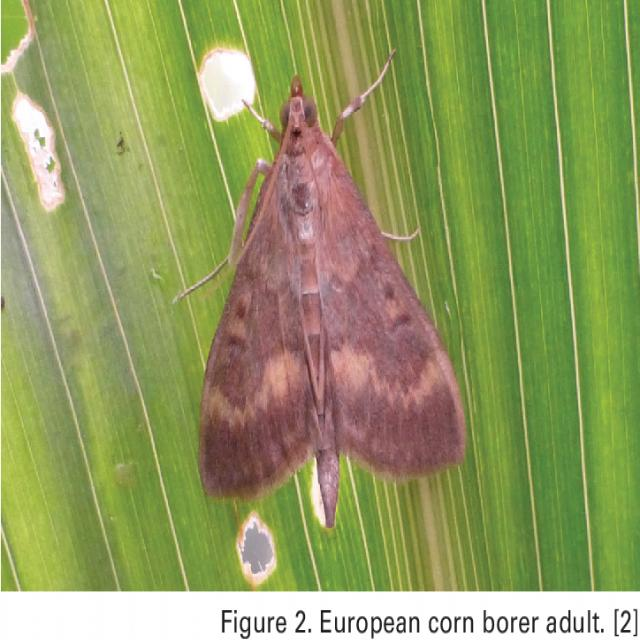cornborer-Adult-: (172, 34, 487, 530)
